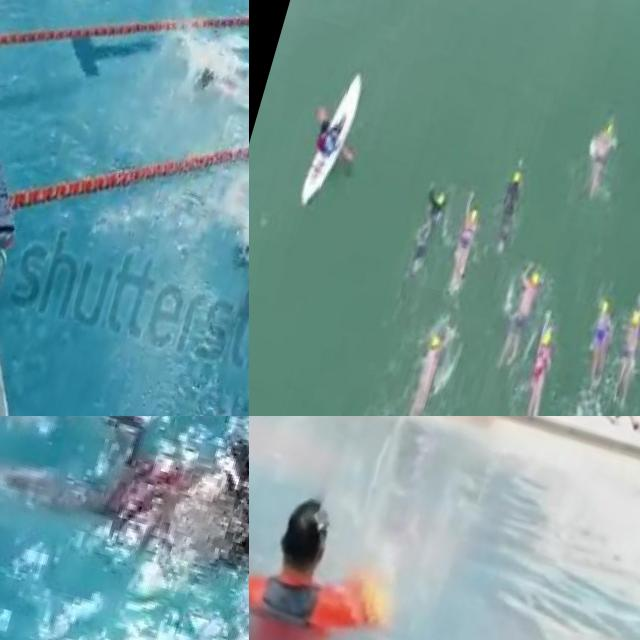drowning: (249, 456, 428, 640)
swimming: (44, 416, 249, 620), (165, 40, 249, 130), (432, 180, 492, 306), (490, 258, 550, 382), (510, 317, 571, 416), (572, 298, 626, 402), (601, 288, 640, 413)
